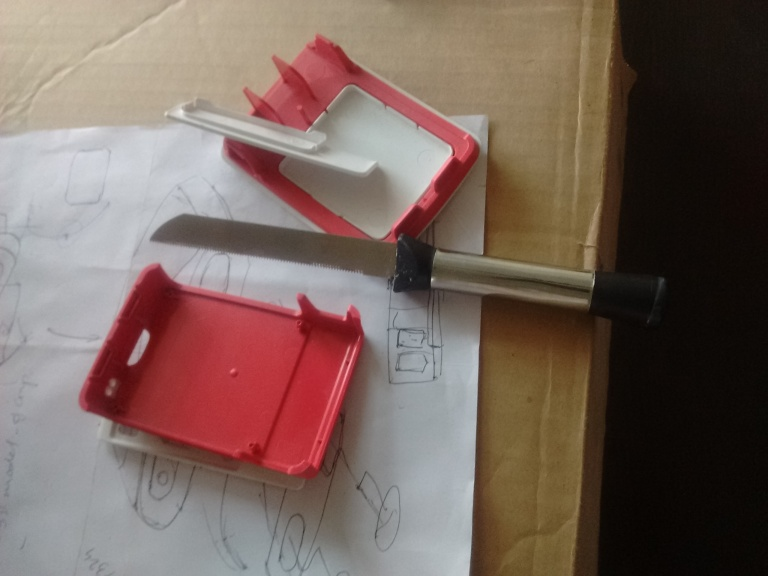knife: (146, 210, 668, 330)
